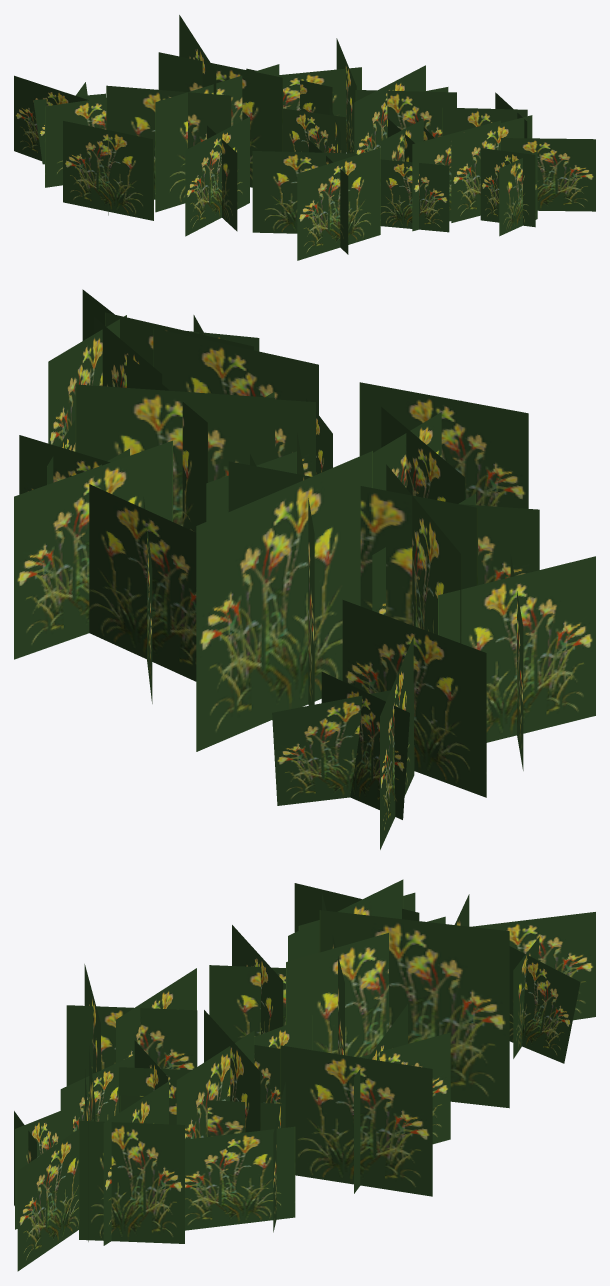
File: wm_灌木野花10.fbx
The picture shows the model from 3 angles, top to bottom: view 1: azimuth 30°, elevation 25°; view 2: azimuth 150°, elevation 25°; view 3: azimuth 270°, elevation 25°; orthographic projection. The views are drawn at different scales.
Visible parts, largest first — view 1: wm_灌木野花10; view 2: wm_灌木野花10; view 3: wm_灌木野花10.
Part boxes in pixels (x1,y1,x2,y2): wm_灌木野花10: [14, 15, 595, 260]; wm_灌木野花10: [14, 289, 595, 849]; wm_灌木野花10: [14, 879, 595, 1271].
Size of the model in its own units: 257 by 79.95 by 238.
